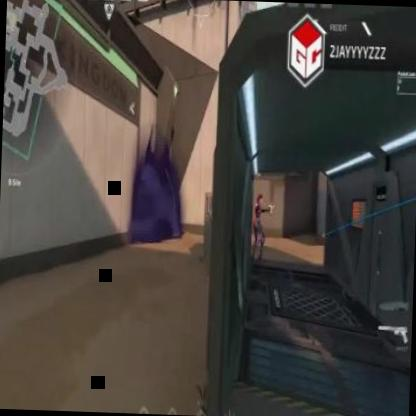enemy: (250, 194, 271, 260)
enemy_head: (256, 194, 264, 207)
